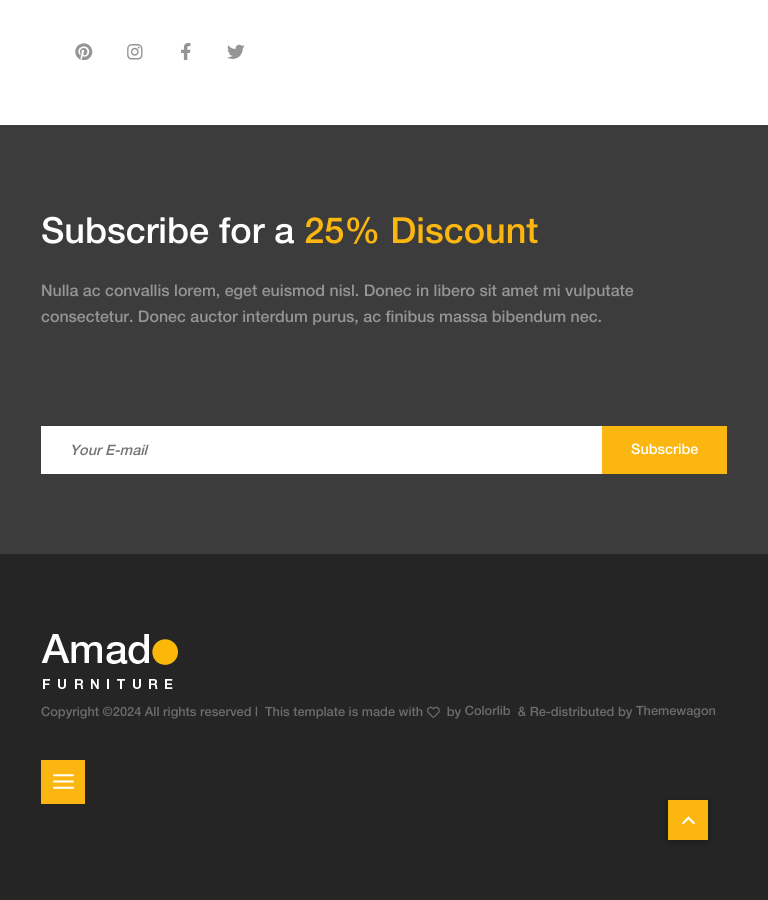
Test: Footer spec › Should have the footer menu as a dropdown menu on small screens
(page scrolled)
Click the button named "open menu" at (63, 782), box [41, 760, 85, 804]
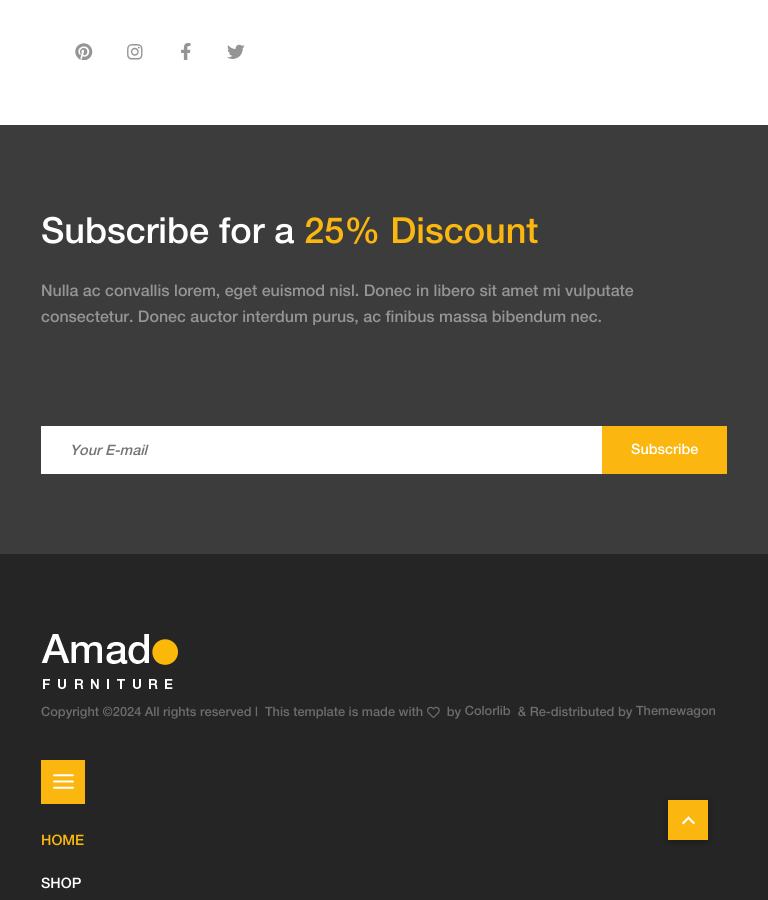
Check: the navigation bar with id "footer-menu" is shown, box [41, 820, 727, 899]
Click the button named "close menu" at (63, 782), box [41, 760, 85, 804]
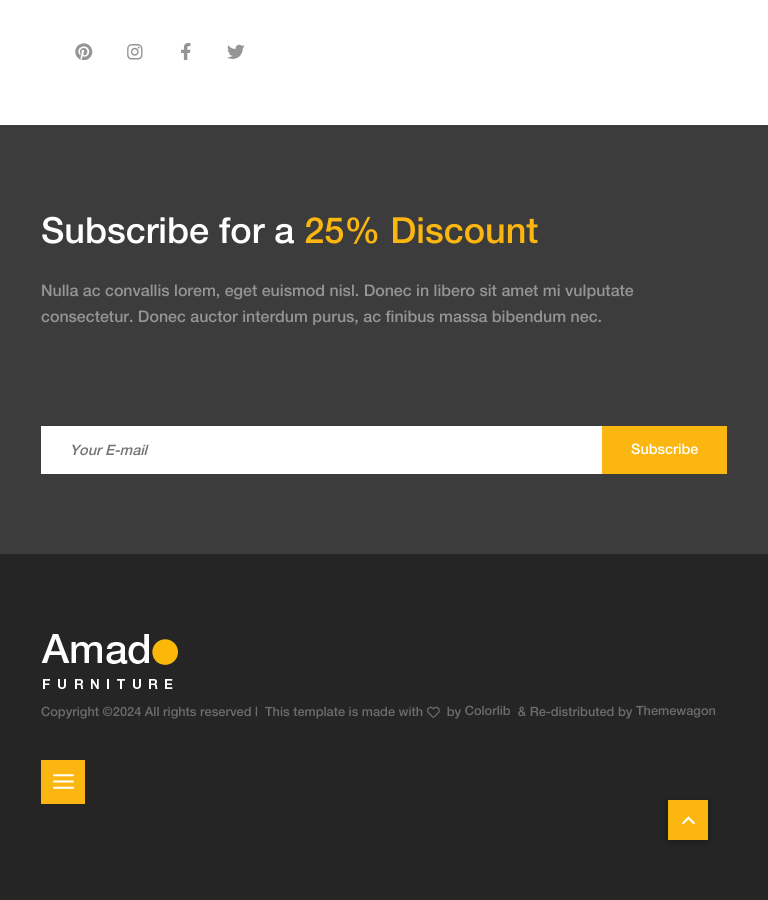
Check: the navigation bar with id "footer-menu" is gone
